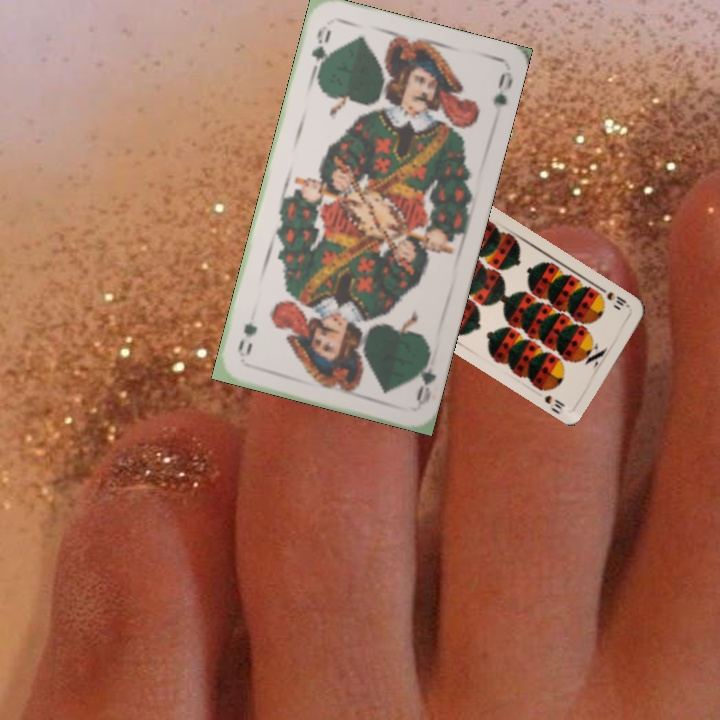GO: (409, 347, 439, 407), (306, 21, 334, 80)
S10: (602, 287, 633, 310)
